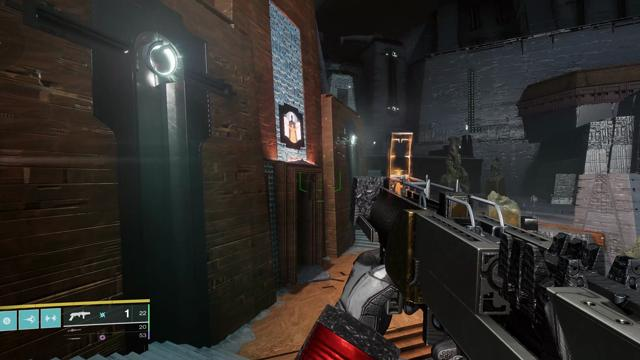worship: (283, 111, 301, 143)
